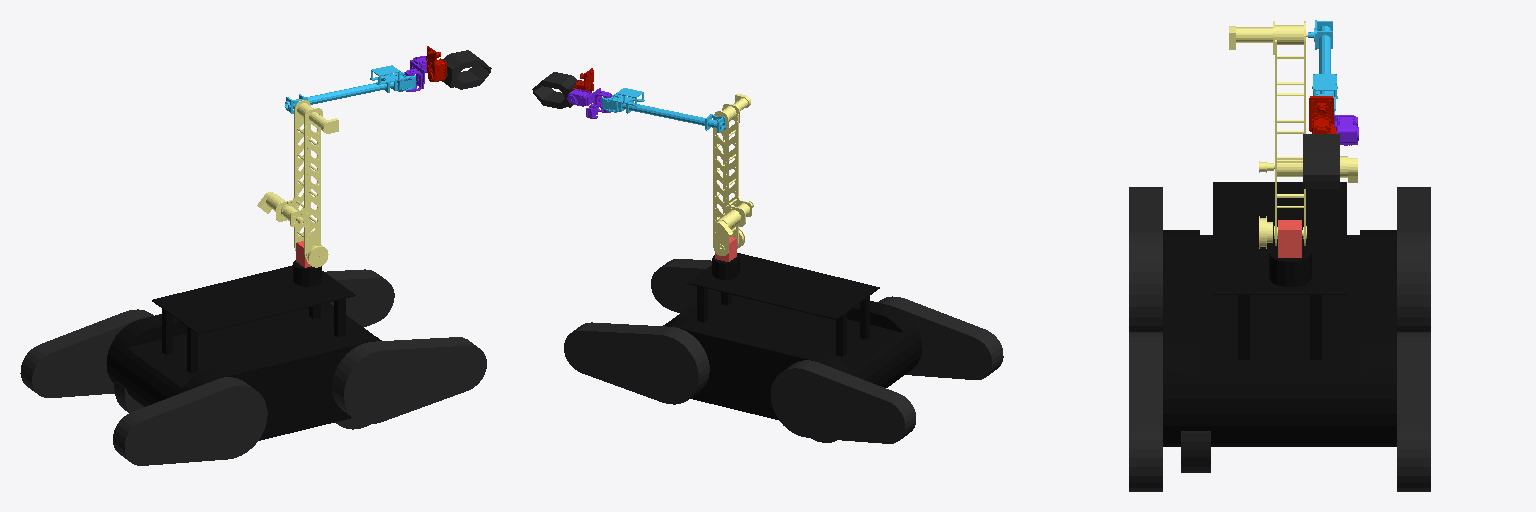
The robot description file, URDF, robot "rescue_urdf":
<?xml version="1.0" encoding="utf-8" ?>
<robot name="rescue_urdf">
	<material name="Black">
		<color rgba="0.2 0.2 0.2 1.0" />
	</material>
	<material name="TransparentBlack">
		<color rgba="0.2 0.2 0.2 0.8" />
	</material>
	<material name="Orange">
		<color rgba="1.0  0.55 0.0 1.0" />
	</material>
	<material name="Grey">
		<color rgba="0.7 0.7 0.7 1.0" />
	</material>
	<material name="DarkGrey">
		<color rgba="0.3 0.3 0.3 1.0" />
	</material>
	<material name="Red">
		<color rgba="0.8 0.0 0.0 1.0" />
	</material>
	<material name="White">
		<color rgba="1.0 1.0 1.0 1.0" />
	</material>
	<material name="OffWhite">
		<color rgba="0.8 0.8 0.8 1.0" />
	</material>
	<material name="Blue">
		<color rgba="0.0 0.0 0.8 1.0" />
	</material>
	<material name="Green">
		<color rgba="0.0 0.8 0.0 1.0" />
	</material>
	<material name="TransparentGreen">
		<color rgba="0.0 0.8 0.0 0.5" />
	</material>
	<link name="base_link">
		<inertial>
			<origin xyz="2.019E-18 -4.2223E-19 -0.0015117" rpy="0 0 0" />
			<mass value="0.062832" />
			<inertia ixx="5.4116E-05" ixy="-8.7997E-21" ixz="2.9353E-22" iyy="8.0393E-06" iyz="3.5981E-22" izz="5.8643E-05" />
		</inertial>
		<visual>
			<origin xyz="0 0 0" rpy="0 0 0" />
			<geometry>
				<mesh filename="package://rescue_new/meshes/base_link.STL" />
			</geometry>
			<material name="">
				<color rgba="0.2 0.2 0.2 1" />
			</material>
		</visual>
		<collision>
			<origin xyz="0 0 0" rpy="0 0 0" />
			<geometry>
				<mesh filename="package://rescue_new/meshes/base_link.STL" />
			</geometry>
		</collision>
	</link>
	<link name="front_back_base">
		<inertial>
			<origin xyz="5.755E-18 -0.00029577 0.0015169" rpy="0 0 0" />
			<mass value="0.062832" />
			<inertia ixx="8.0393E-06" ixy="4.75E-21" ixz="-3.5459E-22" iyy="5.4121E-05" iyz="-1.5765E-07" izz="5.8638E-05" />
		</inertial>
		<visual>
			<origin xyz="0 0 0" rpy="0 0 0" />
			<geometry>
				<mesh filename="package://rescue_new/meshes/front_back_base.STL" />
			</geometry>
			<material name="">
				<color rgba="0.2 0.2 0.2 1" />
			</material>
		</visual>
		<collision>
			<origin xyz="0 0 0" rpy="0 0 0" />
			<geometry>
				<mesh filename="package://rescue_new/meshes/front_back_base.STL" />
			</geometry>
		</collision>
	</link>
	<joint name="joint_front_back" type="revolute">
		<origin xyz="0 0 -0.01" rpy="0 0 0" />
		<parent link="base_link" />
		<child link="front_back_base" />
		<axis xyz="0 1 0" />
		<limit lower="-1.05" upper="1.05" effort="0" velocity="0" />
	</joint>
	<link name="frame_Link">
		<inertial>
			<origin xyz="0.00077984 8.3381E-05 -0.0066376" rpy="0 0 0" />
			<mass value="36.094" />
			<inertia ixx="0.57342" ixy="0.00047616" ixz="0.0059852" iyy="1.0475" iyz="0.00063993" izz="1.4159" />
		</inertial>
		<visual>
			<origin xyz="0 0 0" rpy="0 0 0" />
			<geometry>
				<mesh filename="package://rescue_new/meshes/frame_Link.STL" />
			</geometry>
			<material name="">
				<color rgba="0.1 0.1 0.1 1" />
			</material>
		</visual>
		<collision>
			<origin xyz="0 0 0" rpy="0 0 0" />
			<geometry>
				<mesh filename="package://rescue_new/meshes/frame_Link.STL" />
			</geometry>
		</collision>
	</link>
	<joint name="robot_left_right" type="revolute">
		<origin xyz="0 0 0.105" rpy="0 0 0" />
		<parent link="front_back_base" />
		<child link="frame_Link" />
		<axis xyz="1 0 0" />
		<limit lower="-1.05" upper="1.05" effort="0" velocity="0" />
	</joint>
	<!-- 副履带部分 -->
	<link name="left_up_fin_Link">
		<inertial>
			<origin xyz="0.088814 -0.028 -0.0028953" rpy="0 0 0" />
			<mass value="3.2159" />
			<inertia ixx="0.0074694" ixy="6.0445E-18" ixz="-0.00091416" iyy="0.04127" iyz="-3.7665E-19" izz="0.035481" />
		</inertial>
		<visual>
			<origin xyz="0 0 0" rpy="0 0 0" />
			<geometry>
				<mesh filename="package://rescue_new/meshes/left_up_fin_Link.STL" />
			</geometry>
			<material name="">
				<color rgba="0.2 0.2 0.2 1" />
			</material>
		</visual>
		<collision>
			<origin xyz="0 0 0" rpy="0 0 0" />
			<geometry>
				<mesh filename="package://rescue_new/meshes/left_up_fin_Link.STL" />
			</geometry>
		</collision>
	</link>
	<joint name="left_up_fin_base_joint" type="revolute">
		<origin xyz="0.2 0.2485 0" rpy="0 0 0" />
		<parent link="frame_Link" />
		<child link="left_up_fin_Link" />
		<axis xyz="0 -1 0" />
		<limit lower="-1.57" upper="1.57" effort="0" velocity="0" />
	</joint>
	<link name="right_up_fin_Link">
		<inertial>
			<origin xyz="0.088814 0.028 -0.0028953" rpy="0 0 0" />
			<mass value="3.2159" />
			<inertia ixx="0.0074694" ixy="7.0741E-18" ixz="-0.00091416" iyy="0.04127" iyz="-4.3716E-20" izz="0.035481" />
		</inertial>
		<visual>
			<origin xyz="0 0 0" rpy="0 0 0" />
			<geometry>
				<mesh filename="package://rescue_new/meshes/right_up_fin_Link.STL" />
			</geometry>
			<material name="">
				<color rgba="0.2 0.2 0.2 1" />
			</material>
		</visual>
		<collision>
			<origin xyz="0 0 0" rpy="0 0 0" />
			<geometry>
				<mesh filename="package://rescue_new/meshes/right_up_fin_Link.STL" />
			</geometry>
		</collision>
	</link>
	<joint name="right_up_fin_base_joint" type="revolute">
		<origin xyz="0.2 -0.2485 0" rpy="0 0 0" />
		<parent link="frame_Link" />
		<child link="right_up_fin_Link" />
		<axis xyz="0 -1 0" />
		<limit lower="-1.57" upper="1.57" effort="0" velocity="0" />
	</joint>
	<link name="left_down_fin_Link">
		<inertial>
			<origin xyz="-0.088854 -0.028 0.0011636" rpy="0 0 0" />
			<mass value="3.2159" />
			<inertia ixx="0.0074444" ixy="6.2159E-18" ixz="-0.00036755" iyy="0.04127" iyz="-8.4555E-21" izz="0.035506" />
		</inertial>
		<visual>
			<origin xyz="0 0 0" rpy="0 0 0" />
			<geometry>
				<mesh filename="package://rescue_new/meshes/left_down_fin_Link.STL" />
			</geometry>
			<material name="">
				<color rgba="0.2 0.2 0.2 1" />
			</material>
		</visual>
		<collision>
			<origin xyz="0 0 0" rpy="0 0 0" />
			<geometry>
				<mesh filename="package://rescue_new/meshes/left_down_fin_Link.STL" />
			</geometry>
		</collision>
	</link>
	<joint name="left_down_fin_base_joint" type="revolute">
		<origin xyz="-0.2 0.2485 0" rpy="0 0 0" />
		<parent link="frame_Link" />
		<child link="left_down_fin_Link" />
		<axis xyz="0 -1 0" />
		<limit lower="-1.57" upper="1.57" effort="0" velocity="0" />
	</joint>
	<link name="right_down_fin_Link">
		<inertial>
			<origin xyz="-0.088854 -0.469 0.0011636" rpy="0 0 0" />
			<mass value="3.2159" />
			<inertia ixx="0.0074444" ixy="5.5311E-18" ixz="-0.00036755" iyy="0.04127" iyz="2.278E-19" izz="0.035506" />
		</inertial>
		<visual>
			<origin xyz="0 0 0" rpy="0 0 0" />
			<geometry>
				<mesh filename="package://rescue_new/meshes/right_down_fin_Link.STL" />
			</geometry>
			<material name="">
				<color rgba="0.2 0.2 0.2 1" />
			</material>
		</visual>
		<collision>
			<origin xyz="0 0 0" rpy="0 0 0" />
			<geometry>
				<mesh filename="package://rescue_new/meshes/right_down_fin_Link.STL" />
			</geometry>
		</collision>
	</link>
	<joint name="right_down_fin_base_joint" type="revolute">
		<origin xyz="-0.2 0.2485 0" rpy="0 0 0" />
		<parent link="frame_Link" />
		<child link="right_down_fin_Link" />
		<axis xyz="0 -1 0" />
		<limit lower="-1.57" upper="1.57" effort="0" velocity="0" />
	</joint>
	<!-- 机械臂部分 -->
	<joint name="arm1_bearing_joint" type="revolute">
		<origin xyz="0.159 0.017 0.229" rpy="0 0 0" />
		<parent link="frame_Link" />
		<child link="arm1_Link" />
		<axis xyz="0 0 1" />
		<limit lower="-2.0" upper="2.0" effort="0" velocity="0" />
	</joint>
	<link name="arm1_Link">
		<inertial>
			<origin xyz="0 3.4694E-18 0.024881" rpy="0 0 0" />
			<mass value="0.072961" />
			<inertia ixx="2.5689E-05" ixy="3.1598E-22" ixz="2.3664E-21" iyy="2.6532E-05" iyz="1.1228E-21" izz="2.064E-05" />
		</inertial>
		<visual>
			<origin xyz="0 0 0" rpy="0 0 0" />
			<geometry>
				<mesh filename="package://rescue_new/meshes/arm1_Link.STL" />
			</geometry>
			<material name="">
				<color rgba="1 0.4 0.37 1" />
			</material>
		</visual>
		<collision>
			<origin xyz="0 0 0" rpy="0 0 0" />
			<geometry>
				<mesh filename="package://rescue_new/meshes/arm1_Link.STL" />
			</geometry>
		</collision>
	</link>
	<joint name="arm2_arm1_joint" type="revolute">
		<origin xyz="0 0 0.037" rpy="0 0 0" />
		<parent link="arm1_Link" />
		<child link="arm2_Link" />
		<axis xyz="0 1 0" />
		<limit lower="-1.55" upper="1.4935" effort="0" velocity="0" />
	</joint>
	<link name="arm2_Link">
		<inertial>
			<origin xyz="-0.01735 0.0047967 0.17002" rpy="0 0 0" />
			<mass value="0.35607" />
			<inertia ixx="0.0070072" ixy="-0.00026676" ixz="0.00046445" iyy="0.0063258" iyz="-0.00079961" izz="0.0011004" />
		</inertial>
		<visual>
			<origin xyz="0 0 0" rpy="0 0 0" />
			<geometry>
				<mesh filename="package://rescue_new/meshes/arm2_Link.STL" />
			</geometry>
			<material name="">
				<color rgba="1 0.98 0.62 1" />
			</material>
		</visual>
		<collision>
			<origin xyz="0 0 0" rpy="0 0 0" />
			<geometry>
				<mesh filename="package://rescue_new/meshes/arm2_Link.STL" />
			</geometry>
		</collision>
	</link>
    <joint name="arm3_arm2_joint" type="revolute">
		<origin xyz="0 0.05715 0.36" rpy="1.8121E-15 0.034441 2.8069E-15" />
		<parent link="arm2_Link" />
		<child link="arm3_Link" />
		<axis xyz="0 1 0" />
		<limit lower="-2.6" upper="2" effort="0" velocity="0" />
	</joint>
	<link name="arm3_Link">
		<inertial>
			<origin xyz="0.20711 -0.00070341 0.0017452" rpy="0 0 0" />
			<mass value="0.10124" />
			<inertia ixx="2.3141E-05" ixy="1.4649E-05" ixz="1.5792E-06" iyy="0.0013066" iyz="1.244E-07" izz="0.0012991" />
		</inertial>
		<visual>
			<origin xyz="0 0 0" rpy="0 0 0" />
			<geometry>
				<mesh filename="package://rescue_new/meshes/arm3_Link.STL" />
			</geometry>
			<material name="">
				<color rgba="0.27 0.8 1 1" />
			</material>
		</visual>
		<collision>
			<origin xyz="0 0 0" rpy="0 0 0" />
			<geometry>
				<mesh filename="package://rescue_new/meshes/arm3_Link.STL" />
			</geometry>
		</collision>
	</link>
	<joint name="pt1_arm_joint" type="revolute">
		<origin xyz="0.314 0 -0.003" rpy="-2.2342E-15 3.6082E-16 -2.4361E-16" />
		<parent link="arm3_Link" />
		<child link="pt1_Link" />
		<axis xyz="0 0 1" />
		<limit lower="-1.56302" upper="1.0501" effort="0" velocity="0" />
	</joint>
	<link name="pt1_Link">
		<inertial>
			<origin xyz="0.044077 0.029007 0.0089778" rpy="0 0 0" />
			<mass value="0.075063" />
			<inertia ixx="4.1082E-05" ixy="1.4895E-05" ixz="1.4511E-05" iyy="5.8057E-05" iyz="3.8483E-06" izz="6.3298E-05" />
		</inertial>
		<visual>
			<origin xyz="0 0 0" rpy="0 0 0" />
			<geometry>
				<mesh filename="package://rescue_new/meshes/pt1_Link.STL" />
			</geometry>
			<material name="">
				<color rgba="0.55 0.21 1 1" />
			</material>
		</visual>
		<collision>
			<origin xyz="0 0 0" rpy="0 0 0" />
			<geometry>
				<mesh filename="package://rescue_new/meshes/pt1_Link.STL" />
			</geometry>
		</collision>
	</link>
	<joint name="pt2_pt1_joint" type="revolute">
		<origin xyz="0.0735 -0.0055 0.017" rpy="-2.0532E-15 -2.4702E-15 -1.7413E-15" />
		<parent link="pt1_Link" />
		<child link="pt2_Link" />
		<axis xyz="0 1 0" />
		<limit lower="-1.0444" upper="0.802661" effort="0" velocity="0" />
	</joint>
	<link name="pt2_Link">
		<inertial>
			<origin xyz="-0.00295 0.0014665 0.0054287" rpy="0 0 0" />
			<mass value="0.058403" />
			<inertia ixx="2.8371E-05" ixy="4.0133E-07" ixz="-4.584E-06" iyy="3.0457E-05" iyz="-5.714E-07" izz="1.2557E-05" />
		</inertial>
		<visual>
			<origin xyz="0 0 0" rpy="0 0 0" />
			<geometry>
				<mesh filename="package://rescue_new/meshes/pt2_Link.STL" />
			</geometry>
			<material name="">
				<color rgba="0.78 0.1 0 1" />
			</material>
		</visual>
		<collision>
			<origin xyz="0 0 0" rpy="0 0 0" />
			<geometry>
				<mesh filename="package://rescue_new/meshes/pt2_Link.STL" />
			</geometry>
		</collision>
	</link>
	<joint name="rotate_joint" type="revolute">
		<origin xyz="0.0215 0 -0.0145" rpy="2.2731E-15 7.6328E-17 -2.0733E-16" />
		<parent link="pt2_Link" />
		<child link="paw_rotation_Link" />
		<axis xyz="1 0 0" />
		<limit lower="-1" upper="3.14" effort="0" velocity="0" />
	</joint>
	<link name="paw_rotation_Link">
		<inertial>
			<origin xyz="0.045466 -2.7756E-17 -1.1102E-16" rpy="0 0 0" />
			<mass value="0.22083" />
			<inertia ixx="0.00017979" ixy="1.124E-20" ixz="8.0468E-21" iyy="0.00027562" iyz="-1.3329E-11" izz="0.00032364" />
		</inertial>
		<visual>
			<origin xyz="0 0 0" rpy="1.57 0 0" />
			<geometry>
				<mesh filename="package://rescue_new/meshes/paw_rotation_Link.STL" />
			</geometry>
			<material name="">
				<color rgba="0.2 0.2 0.2 1" />
			</material>
		</visual>
		<collision>
			<origin xyz="0 0 0" rpy="0 0 0" />
			<geometry>
				<mesh filename="package://rescue_new/meshes/paw_rotation_Link.STL" />
			</geometry>
		</collision>
	</link>
    <!-- 虚构一个爪子的位置 -->
    <!--joint name="paw" type="revolute">
        <origin xyz="0 0 0" rpy=" 0 0 0" />
		<parent link="paw_rotation_Link" />
		<child link="paw_Link" />
		<axis xyz="1 0 0" />
		<limit lower="0" upper="0.785" effort="0" velocity="0" />
    </joint>
    <link name="paw_Link">
        <visual>  
      <geometry>  
        <box size="0 0 1"/>  
      </geometry>  
      <material name="white"/>  
    </visual>  
    </link-->
	<!-- 轮子部分 -->
	<link name="left_up_wheel_Link">
		<inertial>
			<origin xyz="-2.77555756156289E-17 -6.93889390390723E-18 0.025" rpy="0 0 0" />
			<mass value="1.24155741669869" />
			<inertia ixx="0.00283364787737864" ixy="-2.97972422202132E-36" ixz="-1.41172157875716E-21" iyy="0.00283364787737864" iyz="2.06446195363164E-35" izz="0.00514998016446615" />
		</inertial>
		<visual>
			<origin xyz="0 0 0" rpy="0 0 0" />
			<geometry>
				<mesh filename="package://rescue_new/meshes/left_up_wheel_Link.STL" />
			</geometry>
			<material name="Black" />
		</visual>
		<collision>
			<origin xyz="0 0 0" rpy="0 0 0" />
			<geometry>
				<mesh filename="package://rescue_new/meshes/left_up_wheel_Link.STL" />
			</geometry>
		</collision>
	</link>
	<joint name="left_up_wheel_base_joint" type="continuous">
		<origin xyz="0.2 0.114 -0.05325" rpy="1.5707963267949 0 3.14159265358979" />
		<parent link="frame_Link" />
		<child link="left_up_wheel_Link" />
		<axis xyz="0 0 1" />
	</joint>
	<link name="left_down_wheel_Link">
		<inertial>
			<origin xyz="2.77555756156289E-17 -6.93889390390723E-18 0.025" rpy="0 0 0" />
			<mass value="1.24155741669869" />
			<inertia ixx="0.00283364787737864" ixy="-2.97972422202132E-36" ixz="-1.41172157875716E-21" iyy="0.00283364787737864" iyz="2.18201138871387E-35" izz="0.00514998016446615" />
		</inertial>
		<visual>
			<origin xyz="0 0 0" rpy="0 0 0" />
			<geometry>
				<mesh filename="package://rescue_new/meshes/left_down_wheel_Link.STL" />
			</geometry>
			<material name="Black" />
		</visual>
		<collision>
			<origin xyz="0 0 0" rpy="0 0 0" />
			<geometry>
				<mesh filename="package://rescue_new/meshes/left_down_wheel_Link.STL" />
			</geometry>
		</collision>
	</link>
	<joint name="left_down_wheel_base_joint" type="continuous">
		<origin xyz="-0.2 0.114 -0.05325" rpy="1.5707963267949 0 3.14159265358979" />
		<parent link="frame_Link" />
		<child link="left_down_wheel_Link" />
		<axis xyz="0 0 1" />
	</joint>
	<link name="right_up_wheel_Link">
		<inertial>
			<origin xyz="0 0 -0.025" rpy="0 0 0" />
			<mass value="1.24155741669869" />
			<inertia ixx="0.00283364787737864" ixy="-2.97972422202131E-36" ixz="4.12373035143234E-36" iyy="0.00283364787737864" iyz="3.01220427398211E-36" izz="0.00514998016446615" />
		</inertial>
		<visual>
			<origin xyz="0 0 0" rpy="0 0 0" />
			<geometry>
				<mesh filename="package://rescue_new/meshes/right_up_wheel_Link.STL" />
			</geometry>
			<material name="Black" />
		</visual>
		<collision>
			<origin xyz="0 0 0" rpy="0 0 0" />
			<geometry>
				<mesh filename="package://rescue_new/meshes/right_up_wheel_Link.STL" />
			</geometry>
		</collision>
	</link>
	<joint name="right_up_wheel_base_joint" type="continuous">
		<origin xyz="0.2 -0.114 -0.05325" rpy="1.5707963267949 0 3.14159265358979" />
		<parent link="frame_Link" />
		<child link="right_up_wheel_Link" />
		<axis xyz="0 0 1" />
	</joint>
	<link name="right_down_wheel_Link">
		<inertial>
			<origin xyz="0 0 -0.025" rpy="0 0 0" />
			<mass value="1.24155741669869" />
			<inertia ixx="0.00283364787737864" ixy="-2.97972422202132E-36" ixz="4.19264129766795E-36" iyy="0.00283364787737864" iyz="2.93873587705573E-36" izz="0.00514998016446615" />
		</inertial>
		<visual>
			<origin xyz="0 0 0" rpy="0 0 0" />
			<geometry>
				<mesh filename="package://rescue_new/meshes/right_down_wheel_Link.STL" />
			</geometry>
			<material name="Black" />
		</visual>
		<collision>
			<origin xyz="0 0 0" rpy="0 0 0" />
			<geometry>
				<mesh filename="package://rescue_new/meshes/right_down_wheel_Link.STL" />
			</geometry>
		</collision>
	</link>
	<joint name="right_down_wheel_base_joint" type="continuous">
		<origin xyz="-0.2 -0.114 -0.05325" rpy="1.5707963267949 0 3.14159265358979" />
		<parent link="frame_Link" />
		<child link="right_down_wheel_Link" />
		<axis xyz="0 0 1" />
	</joint>
</robot>

--- Facts derived from the render (not from the file) ---
Views: 3 orthographic renders of the robot side by side, from view 1: azimuth 30°, elevation 25°; view 2: azimuth 150°, elevation 25°; view 3: azimuth 270°, elevation 25°.
Model rescue_urdf with 17 links and 16 joints (12 revolute, 4 continuous), rooted at base_link, posed all joints at 0.
Links seen in each view (by area): view 1: frame_Link, right_down_fin_Link, right_up_fin_Link, left_down_fin_Link, arm2_Link, left_up_fin_Link, arm3_Link, paw_rotation_Link, pt2_Link; view 2: frame_Link, left_down_fin_Link, left_up_fin_Link, right_down_fin_Link, arm2_Link, right_up_fin_Link, arm3_Link, paw_rotation_Link, pt1_Link; view 3: frame_Link, left_up_fin_Link, right_up_fin_Link, left_down_fin_Link, right_down_fin_Link, arm2_Link, paw_rotation_Link, arm3_Link, right_up_wheel_Link, pt2_Link, arm1_Link, pt1_Link.
Link boxes in pixels (bbox=[...]): frame_Link: bbox=[106, 260, 381, 440]; right_down_fin_Link: bbox=[113, 377, 267, 465]; right_up_fin_Link: bbox=[332, 337, 486, 423]; left_down_fin_Link: bbox=[20, 309, 153, 397]; arm2_Link: bbox=[257, 100, 338, 267]; left_up_fin_Link: bbox=[325, 269, 394, 327]; arm3_Link: bbox=[285, 65, 415, 113]; paw_rotation_Link: bbox=[442, 50, 491, 89]; pt2_Link: bbox=[426, 46, 446, 81]; frame_Link: bbox=[663, 253, 922, 419]; left_down_fin_Link: bbox=[771, 360, 915, 443]; left_up_fin_Link: bbox=[564, 322, 709, 404]; right_down_fin_Link: bbox=[878, 296, 1003, 379]; arm2_Link: bbox=[713, 94, 753, 255]; right_up_fin_Link: bbox=[651, 259, 711, 312]; arm3_Link: bbox=[602, 88, 725, 132]; paw_rotation_Link: bbox=[532, 72, 578, 108]; pt1_Link: bbox=[567, 88, 611, 118]; frame_Link: bbox=[1163, 182, 1396, 446]; left_up_fin_Link: bbox=[1397, 332, 1430, 491]; right_up_fin_Link: bbox=[1129, 332, 1162, 491]; left_down_fin_Link: bbox=[1397, 187, 1430, 331]; right_down_fin_Link: bbox=[1129, 187, 1162, 331]; arm2_Link: bbox=[1229, 21, 1357, 248]; paw_rotation_Link: bbox=[1303, 134, 1339, 188]; arm3_Link: bbox=[1308, 20, 1337, 114]; right_up_wheel_Link: bbox=[1181, 431, 1210, 472]; pt2_Link: bbox=[1309, 96, 1336, 133]; arm1_Link: bbox=[1278, 220, 1301, 257]; pt1_Link: bbox=[1334, 115, 1358, 145].
Bounding box of the posed robot: 1.18 × 0.497 × 0.8293 m (x, y, z).
Meshes: 17 distinct files referenced, 14 mesh visuals loaded (14 binary STL); not drawn: 3 (reference not matched to a file when rendering).